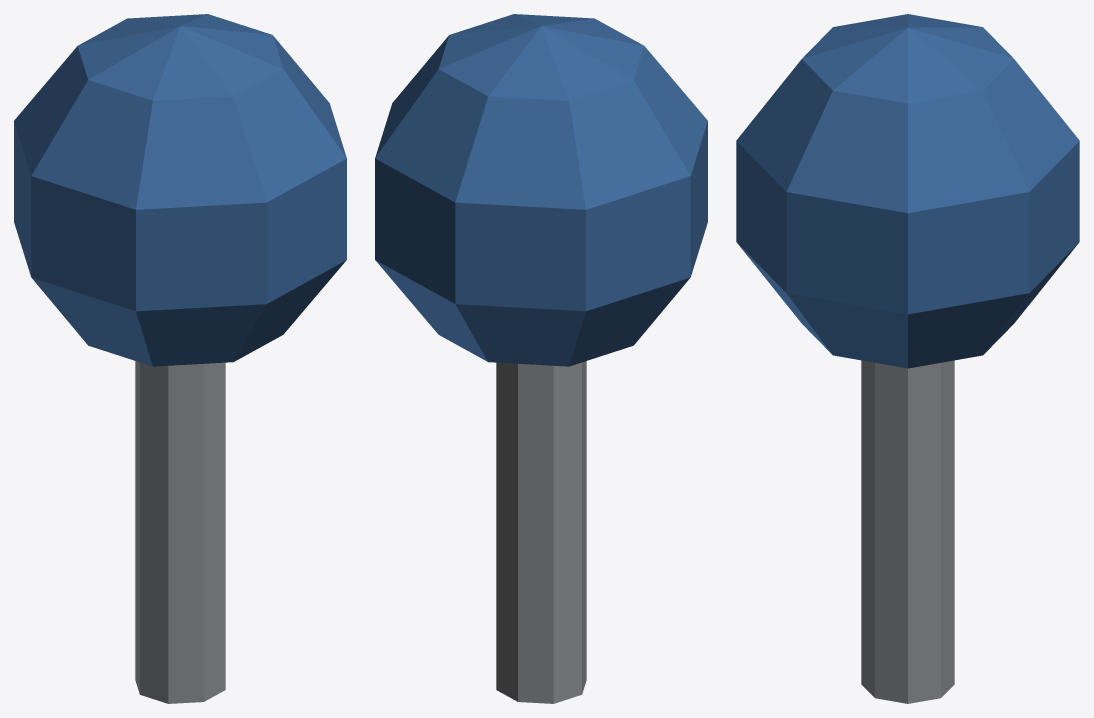
The model's file is SM_Prop_Arcade_Machine_Space_01_Joystick_02.obj.
3 renders of one model, left to right at view 1: azimuth 30°, elevation 25°; view 2: azimuth 150°, elevation 25°; view 3: azimuth 270°, elevation 25°, orthographic.
Parts seen in each view (by area): view 1: SM_Prop_Arcade_Machine_Space_01_Joystick_02_0; view 2: SM_Prop_Arcade_Machine_Space_01_Joystick_02_0; view 3: SM_Prop_Arcade_Machine_Space_01_Joystick_02_0.
Part boxes in pixels (x1,y1,x2,y2): SM_Prop_Arcade_Machine_Space_01_Joystick_02_0: [14, 14, 346, 703]; SM_Prop_Arcade_Machine_Space_01_Joystick_02_0: [375, 14, 707, 703]; SM_Prop_Arcade_Machine_Space_01_Joystick_02_0: [736, 14, 1079, 703].
Size of the model in its own units: 0.0625 by 0.1317 by 0.0625.
Materials: 1 (1 with a texture image).
